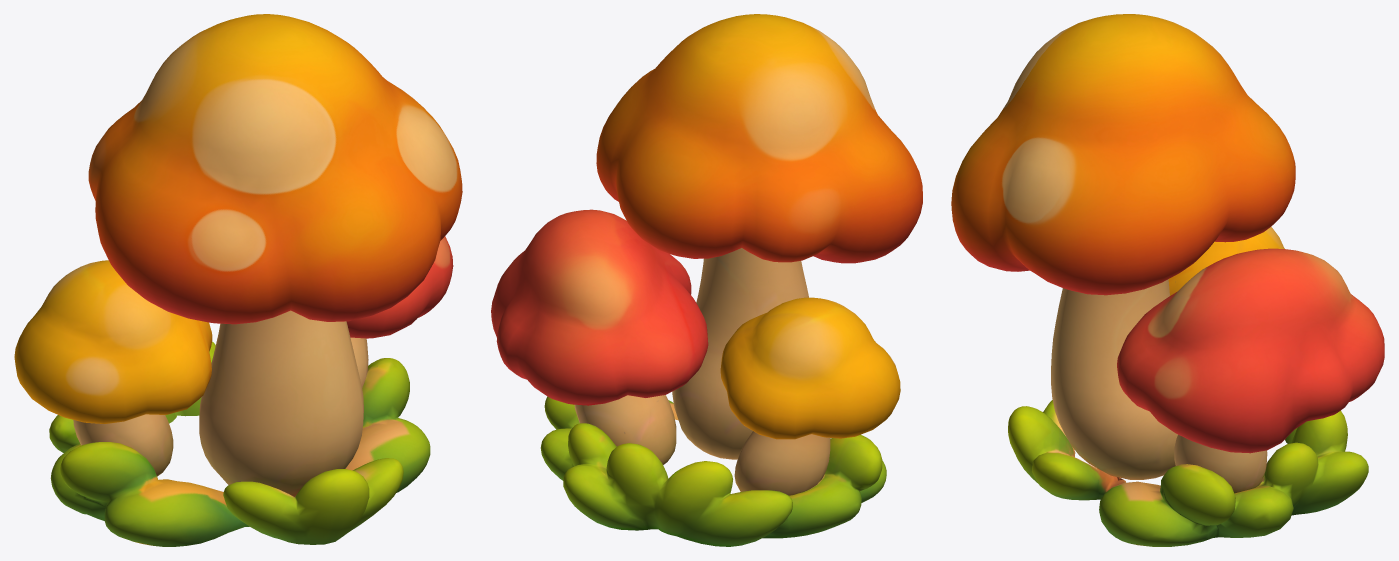
Rendered from mushroom-cluster.glb.
3 views of the same model, side by side, from view 1: azimuth 30°, elevation 25°; view 2: azimuth 150°, elevation 25°; view 3: azimuth 270°, elevation 25° (orthographic). The views are drawn at different scales.
Parts seen in each view (by area): view 1: tripo_46f0d3e9_7c28_4dca_ad95_0b1dcc9a362a; view 2: tripo_46f0d3e9_7c28_4dca_ad95_0b1dcc9a362a; view 3: tripo_46f0d3e9_7c28_4dca_ad95_0b1dcc9a362a.
Part boxes in pixels (x1,y1,x2,y2): tripo_46f0d3e9_7c28_4dca_ad95_0b1dcc9a362a: (14,14,462,546); tripo_46f0d3e9_7c28_4dca_ad95_0b1dcc9a362a: (491,14,922,546); tripo_46f0d3e9_7c28_4dca_ad95_0b1dcc9a362a: (951,14,1384,546).
Size of the model in its own units: 0.9077 by 0.9995 by 0.8706.
Materials: 1 (1 with a texture image).
